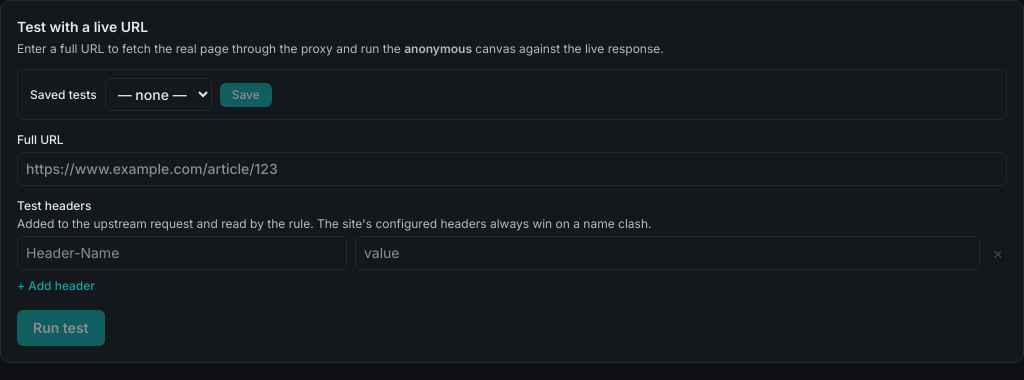
Test: UrlTestPanel › disables Run until a URL is entered
Check: the button "Run test" is disabled, box [17,310,104,346]
Type "https://x.test/a" into the field labelled "Full URL". click: x=512, y=169
box: [17,152,1007,186]
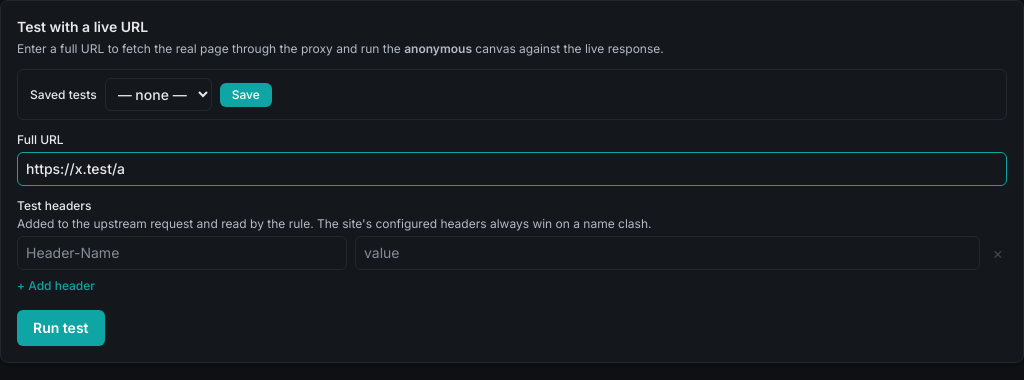
Check: the button "Run test" is enabled, box [17,310,104,346]
